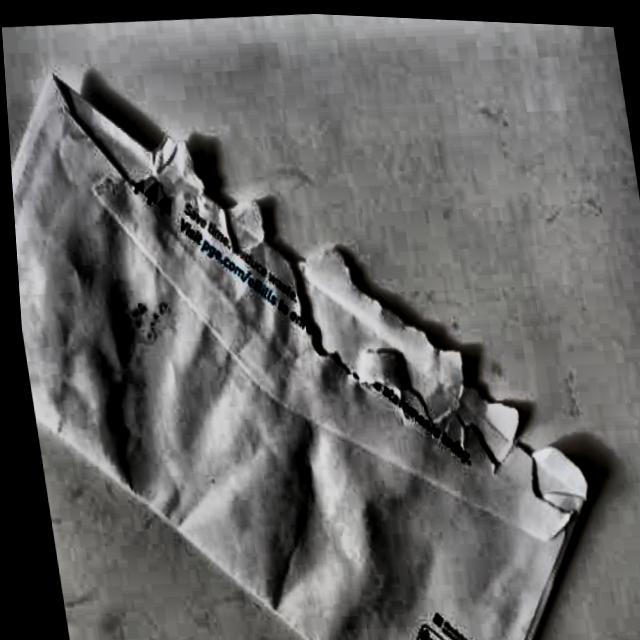Paper: (1, 21, 607, 640)
